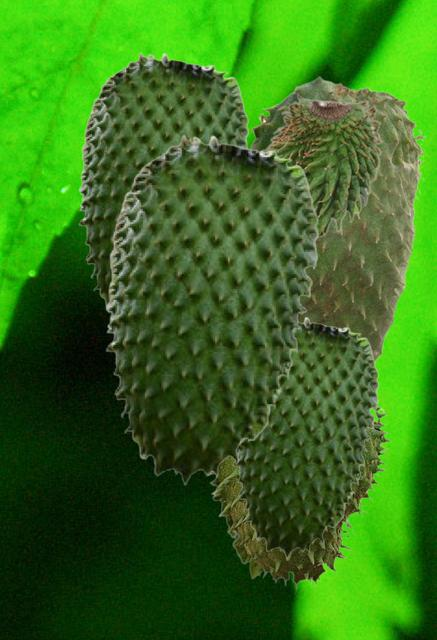guyabano: (105, 134, 318, 484), (248, 75, 425, 363), (78, 52, 248, 311), (232, 316, 378, 557), (209, 406, 391, 589), (261, 92, 382, 239)
